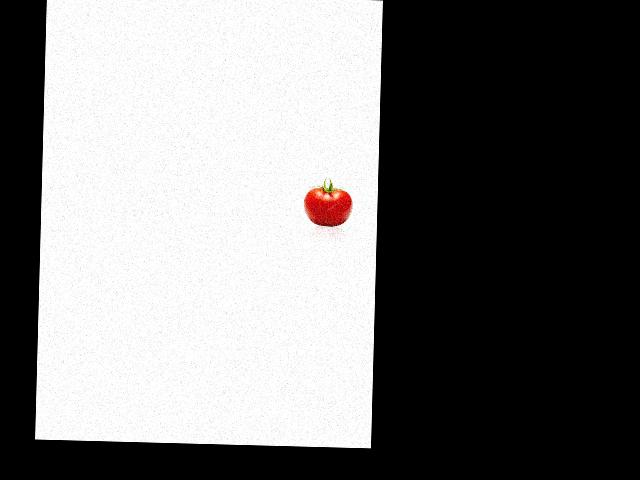tomato: (303, 187, 353, 226)
